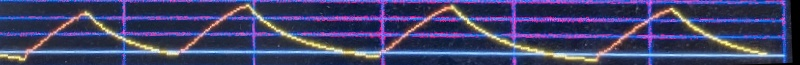normal_volume: (0, 0, 778, 65)
